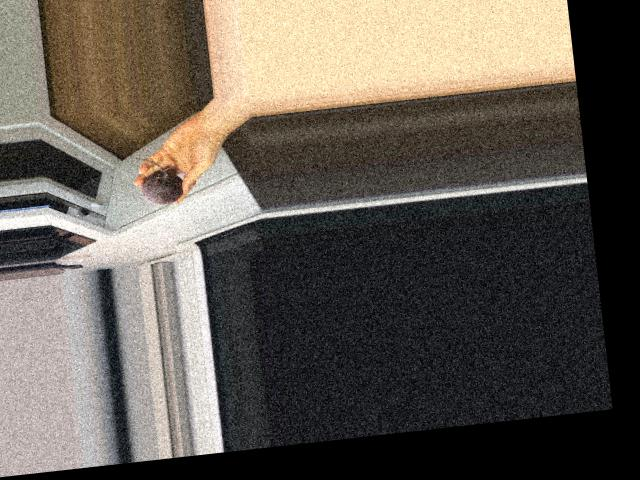beet: (133, 153, 184, 207)
